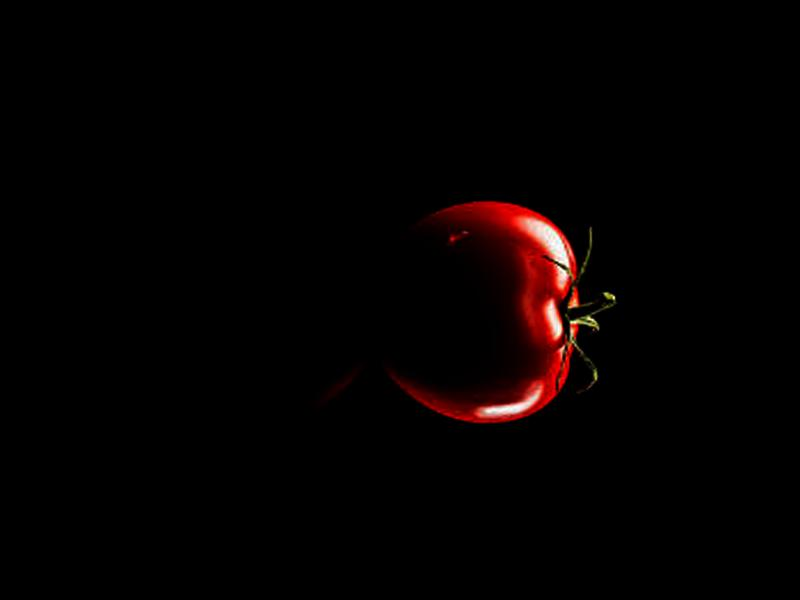Tomato: (382, 200, 585, 423)
